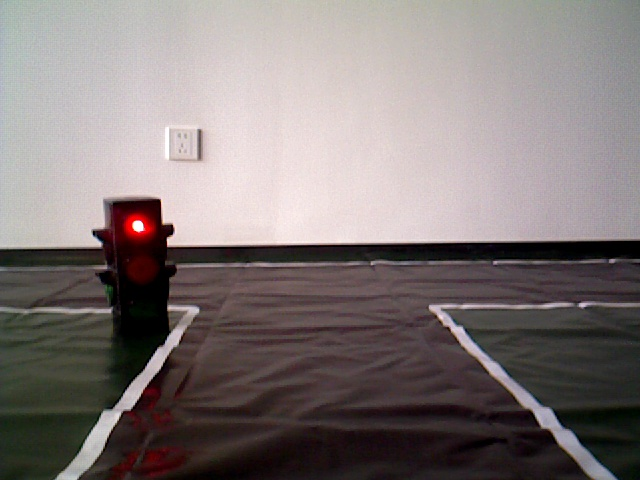red: (96, 204, 169, 331)
